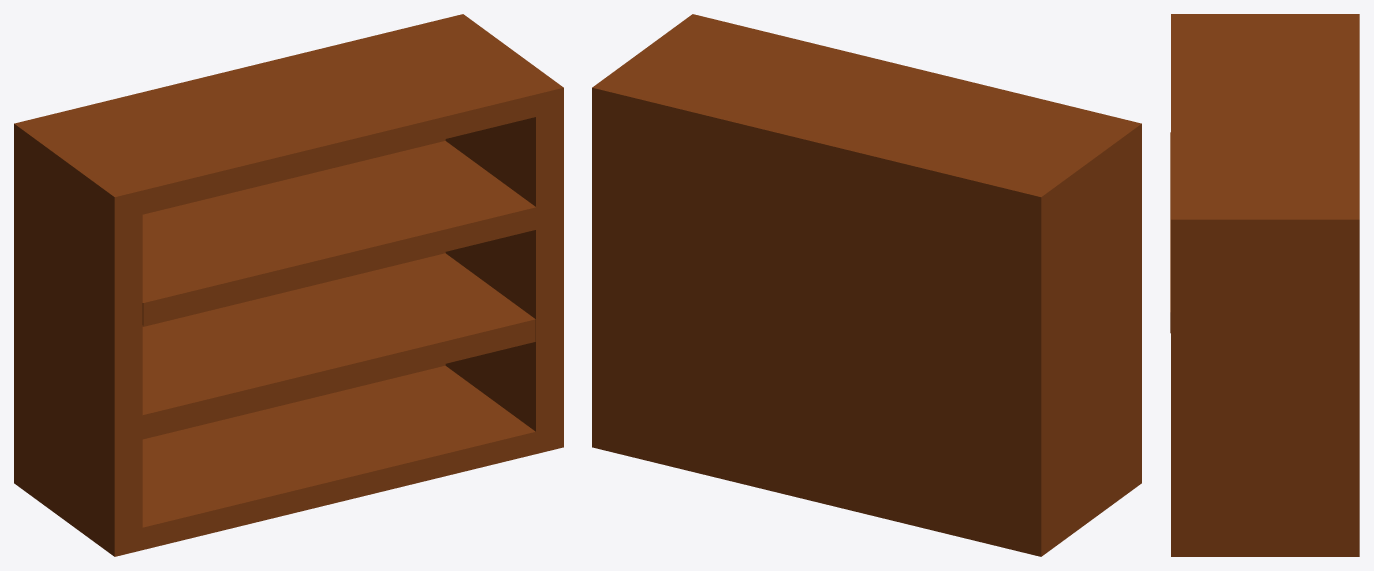
The model's file is shelf.fbx.
3 views of the same model, side by side, from view 1: azimuth 30°, elevation 25°; view 2: azimuth 150°, elevation 25°; view 3: azimuth 270°, elevation 25° (orthographic). The views are drawn at different scales.
Visible parts, largest first — view 1: shelf; view 2: shelf; view 3: shelf.
Part boxes in pixels (bbox=[...]): shelf: bbox=[14, 14, 563, 556]; shelf: bbox=[592, 14, 1141, 556]; shelf: bbox=[1170, 14, 1359, 556].
Size of the model in its own units: 115 by 88.31 by 44.99.
